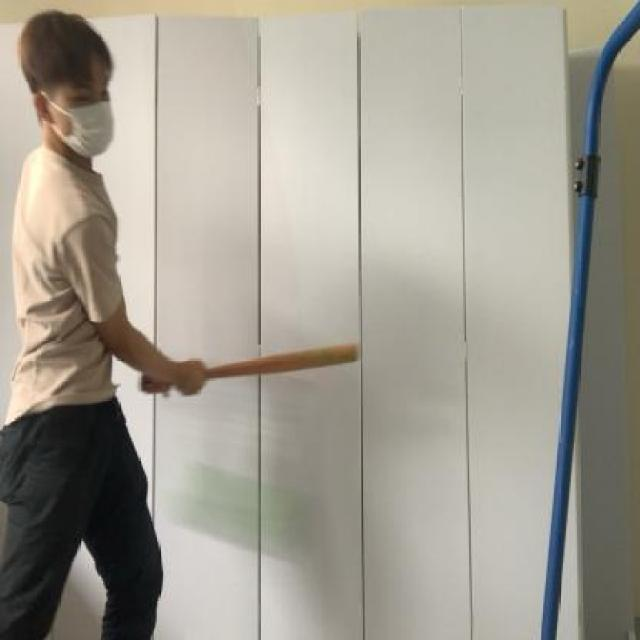baseball: (164, 464, 328, 564)
